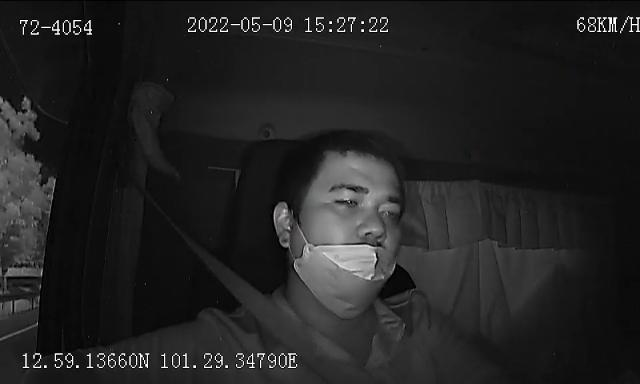SafeDriving: (328, 190, 366, 212)
Seatbelt: (176, 224, 376, 384)
